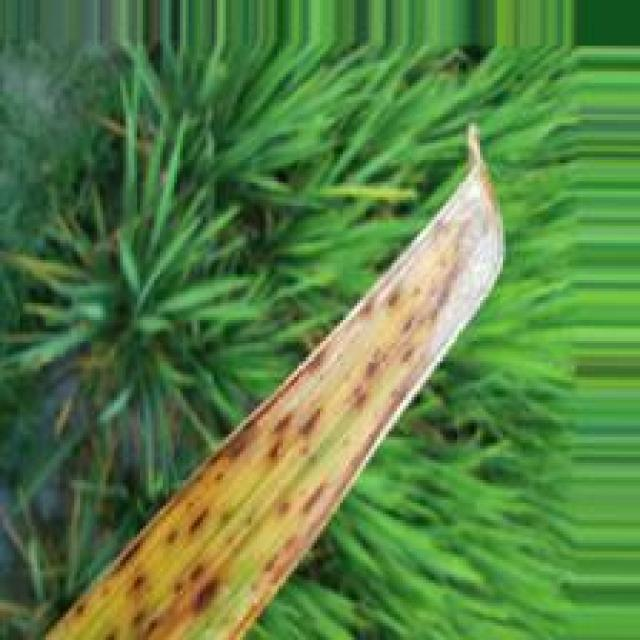Narrow_Brown_Leaf_Spot: (37, 129, 509, 640)
